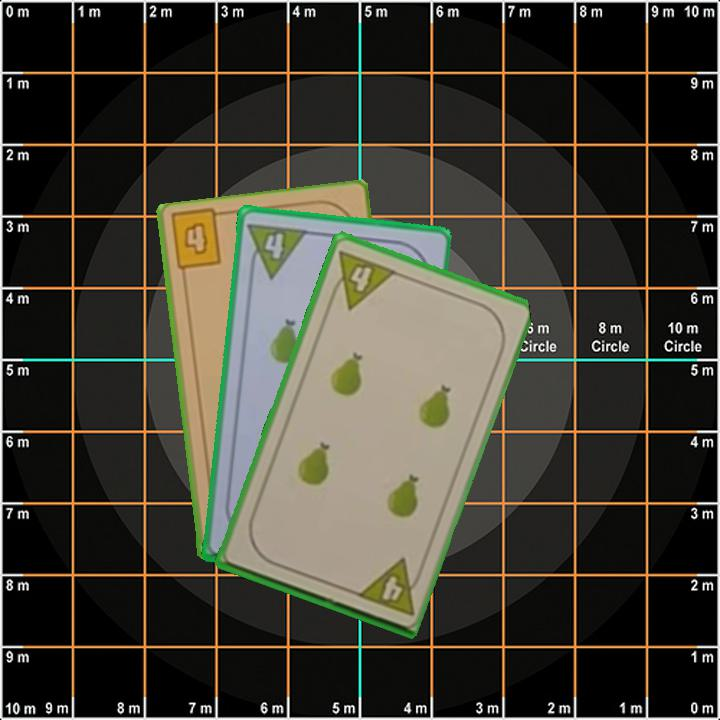4b: (179, 218, 211, 258)
4p: (324, 247, 399, 312), (352, 554, 427, 619), (244, 219, 310, 281)
